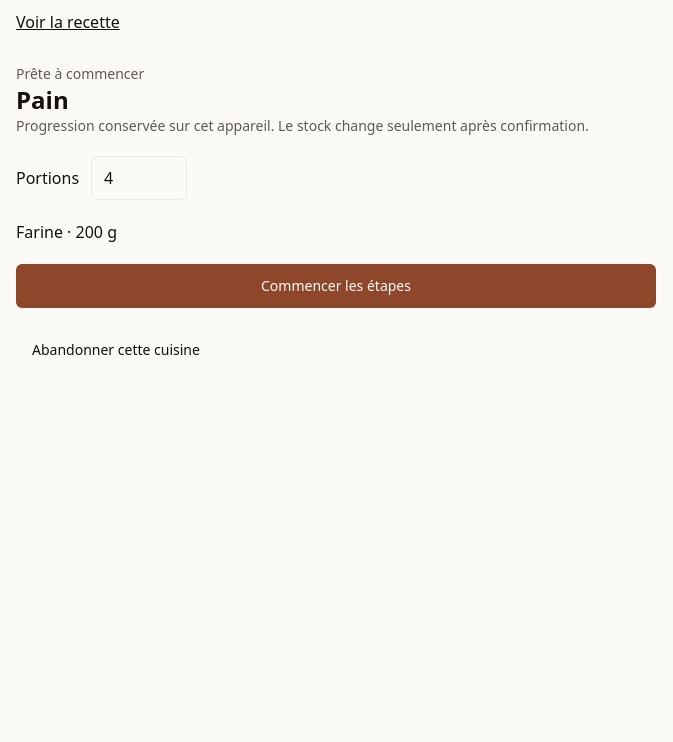
Test: actual quantity enters one typed confirmation, then reopening the completed screen sends nothing
Click the button "Commencer les étapes" at x=336, y=286, box [16,264,656,308]
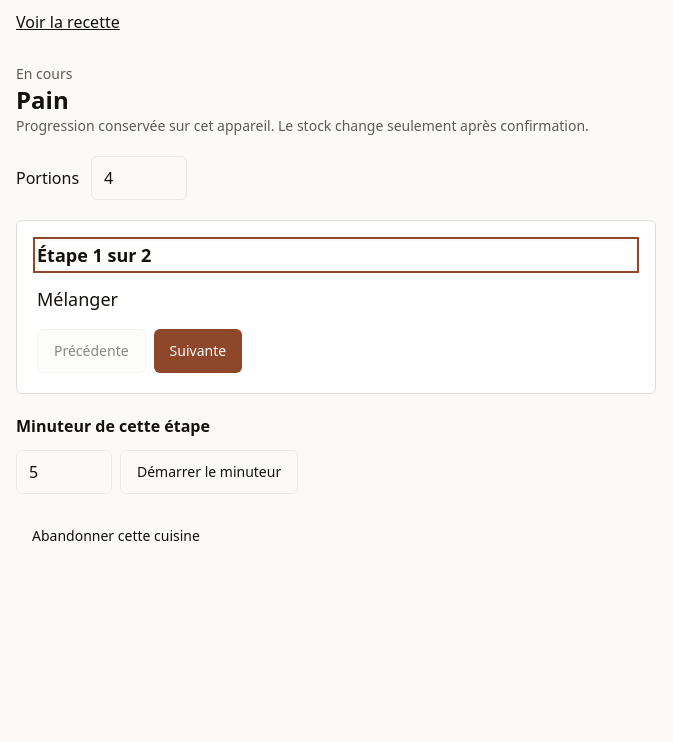
Click the button "Suivante" at x=198, y=351, box [154,329,242,373]
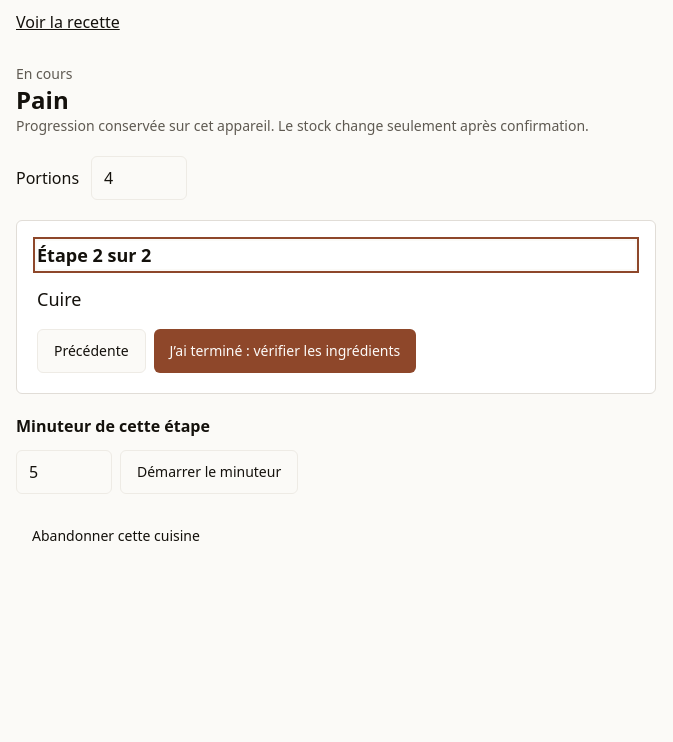
Click the button "J’ai terminé : vérifier les ingrédients" at x=285, y=351, box [154,329,416,373]
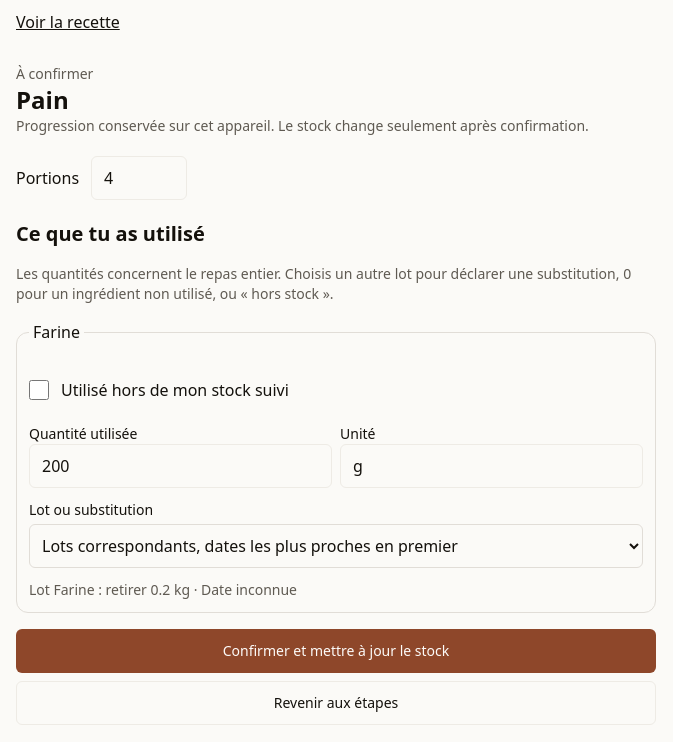
Result: the button "Confirmer et mettre à jour le stock" is enabled at [16,629,656,673]
Replace the text in the field named "Quantité utilisée de Farine" with "125" at x=180, y=466, box [29,444,332,488]
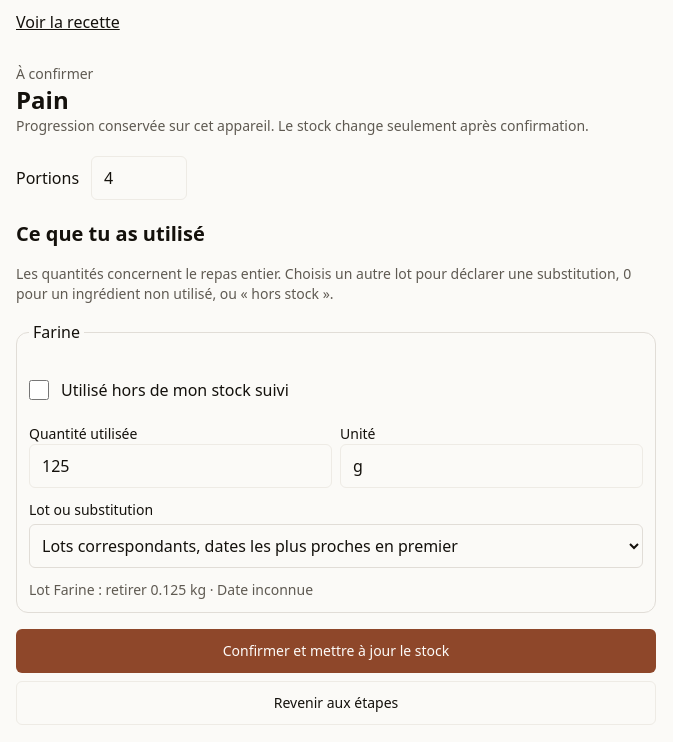
Click the button "Confirmer et mettre à jour le stock" at x=336, y=651, box [16,629,656,673]
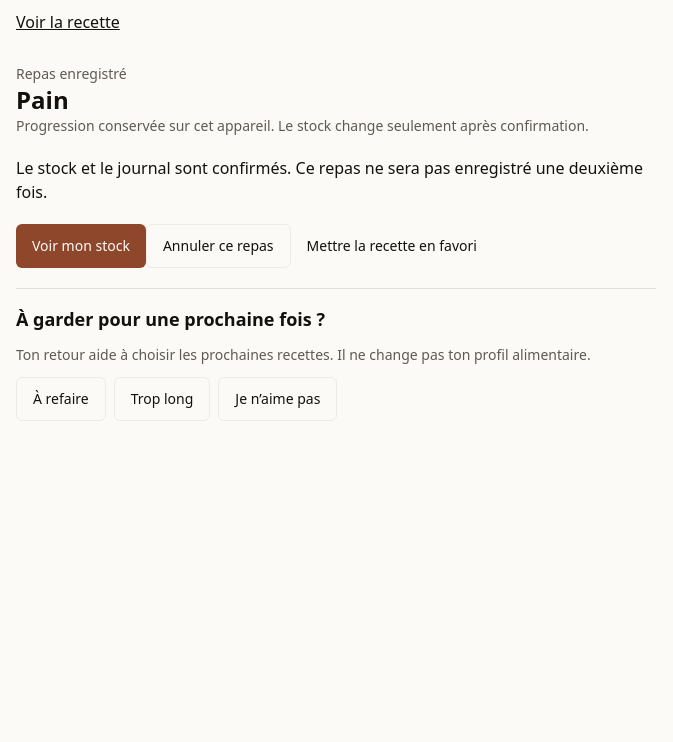
Result: the text "Le stock et le journal sont confirmés. Ce repas ne sera pas enregistré une deuxième fois." is shown at [16,157,643,203]
